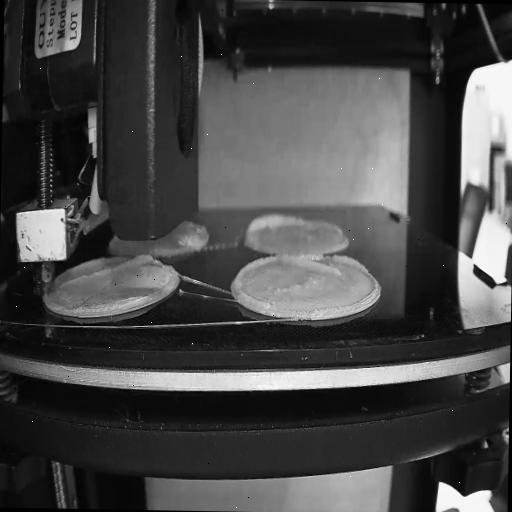over_extrusion: (61, 250, 155, 292), (280, 254, 370, 280), (233, 254, 277, 306), (244, 213, 304, 245)
